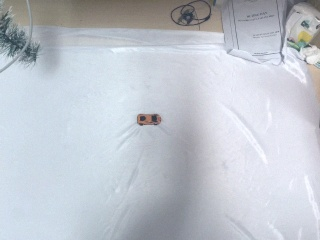toy_car: (137, 111, 162, 127)
